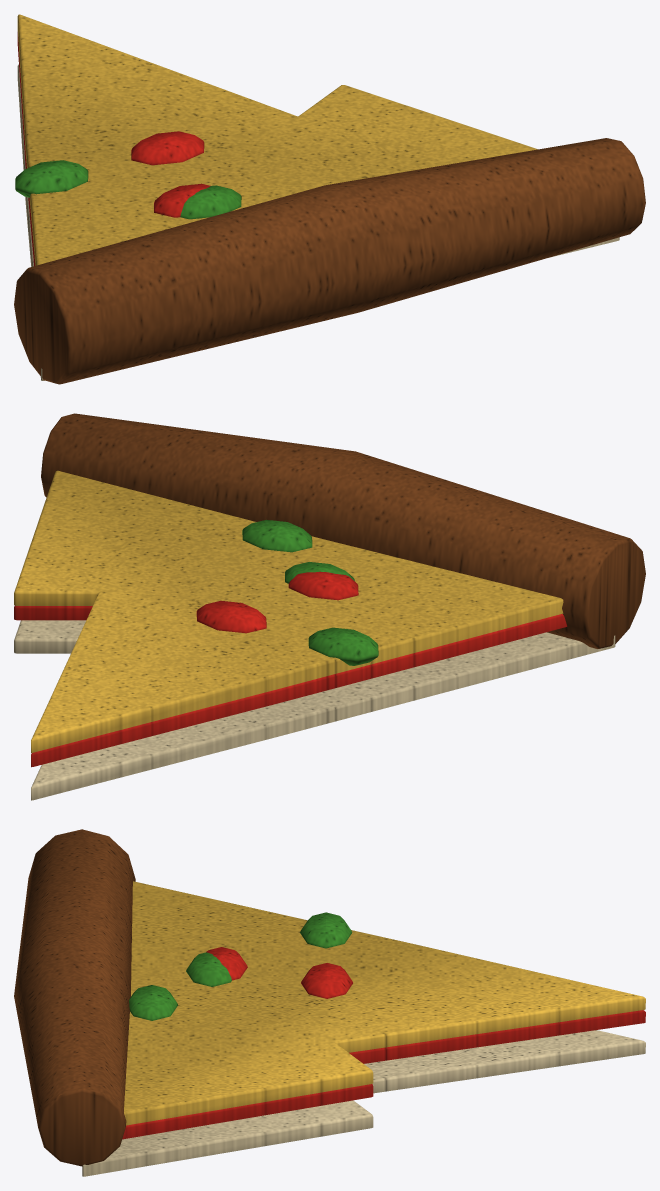
File: food-08-full.glb
3 renders of one model, top to bottom at view 1: azimuth 30°, elevation 25°; view 2: azimuth 150°, elevation 25°; view 3: azimuth 270°, elevation 25°, orthographic. The views are drawn at different scales.
Visible parts, largest first — view 1: Food; view 2: Food; view 3: Food.
Part boxes in pixels (x1,y1,x2,y2): Food: [14, 14, 645, 384]; Food: [14, 413, 645, 800]; Food: [14, 829, 645, 1176].
Bounding box in the file's own units: 0.6142 × 0.125 × 0.6488.
1 material, 1 textured.
